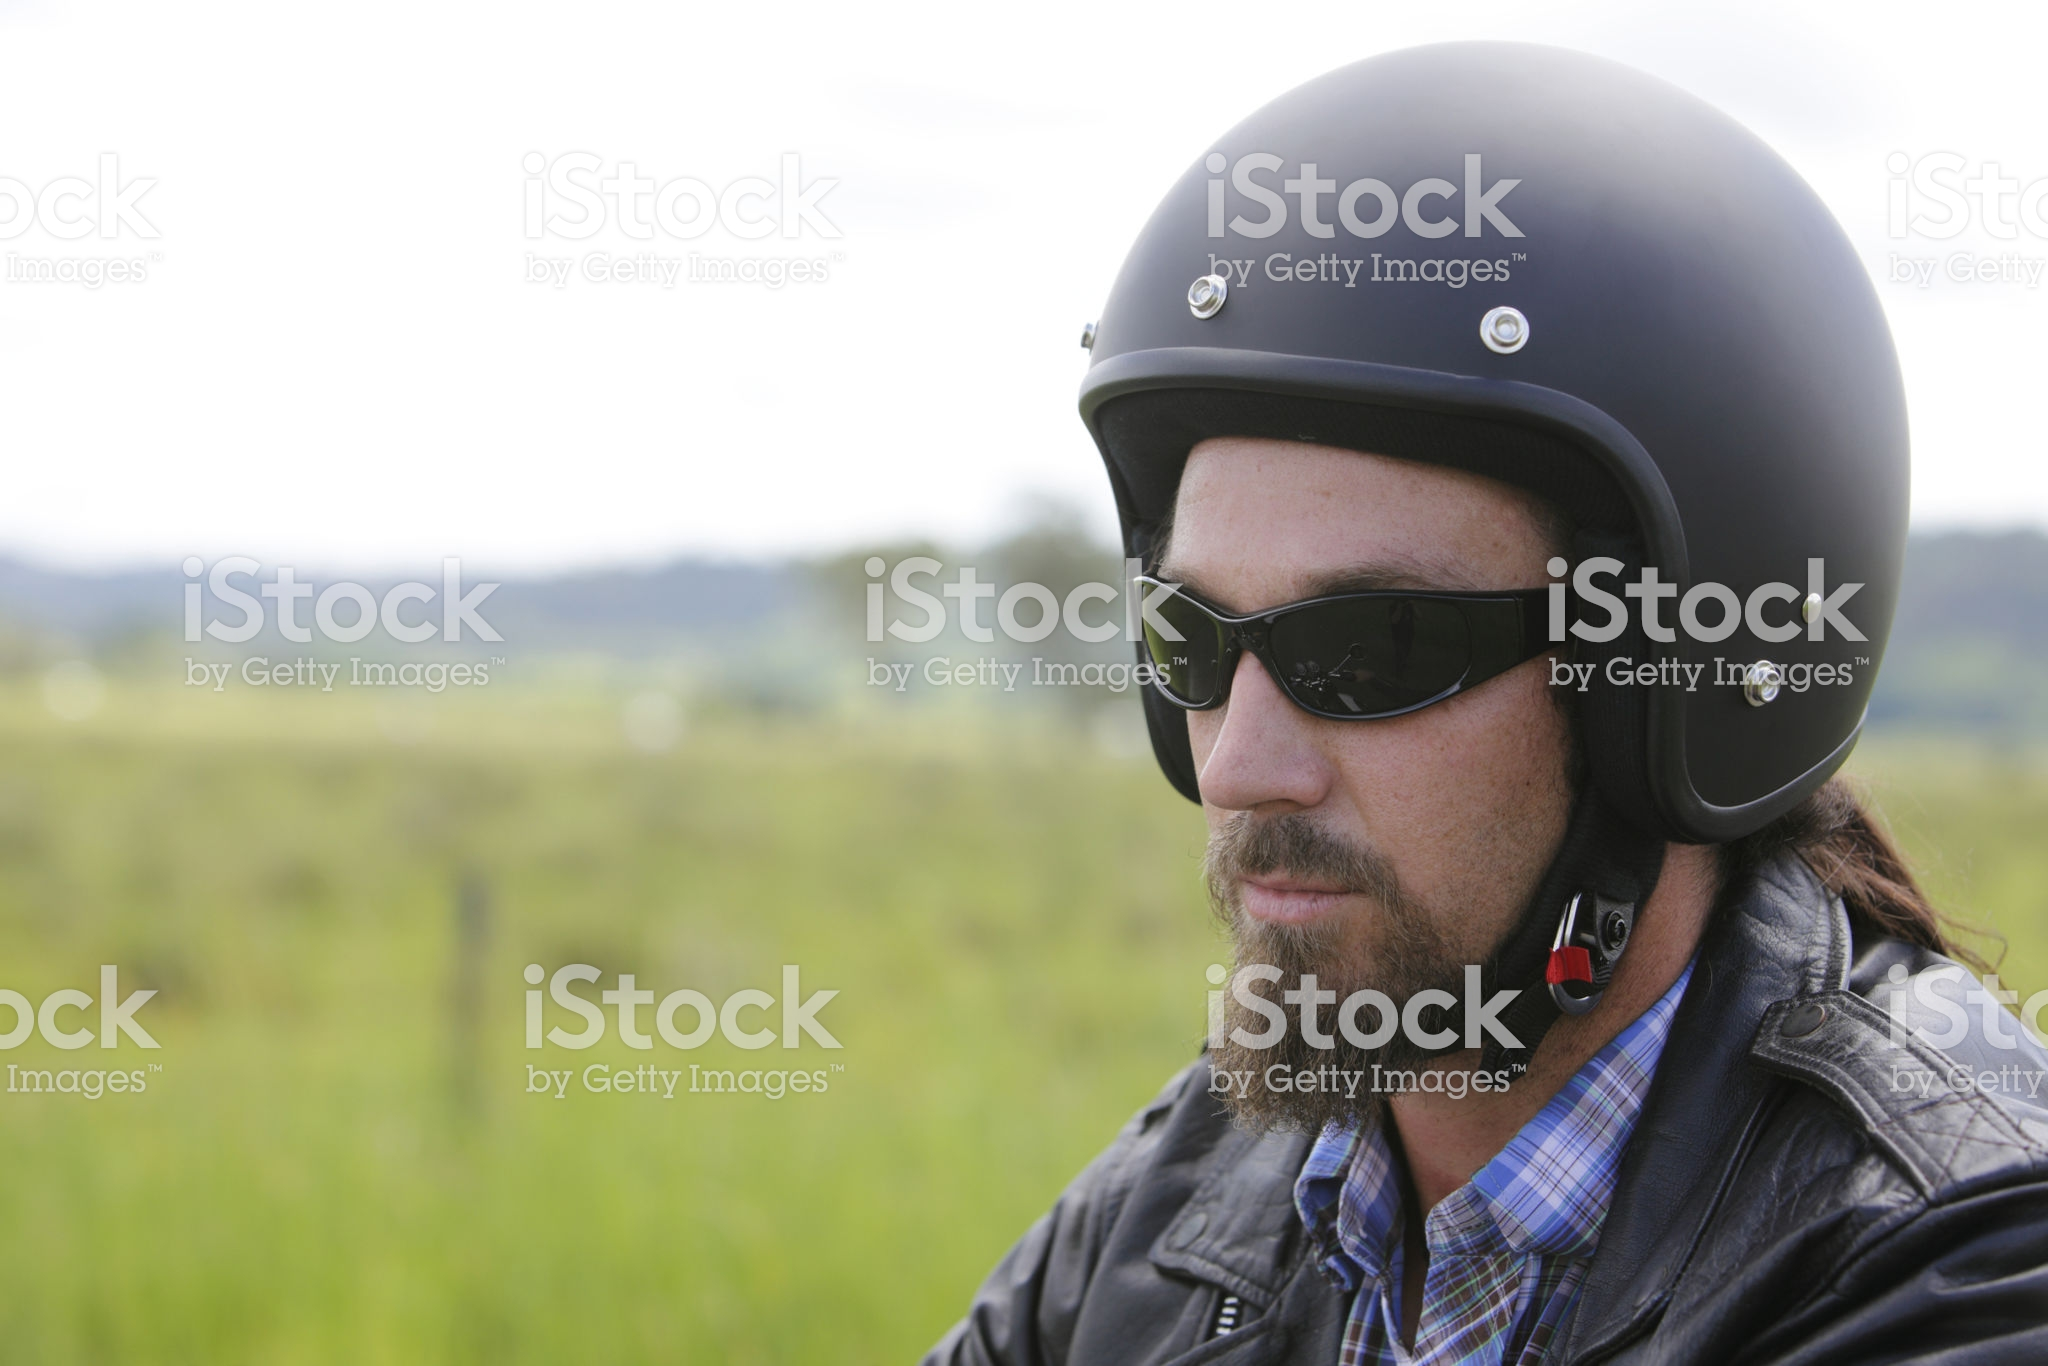helmet: (1102, 40, 1947, 813)
